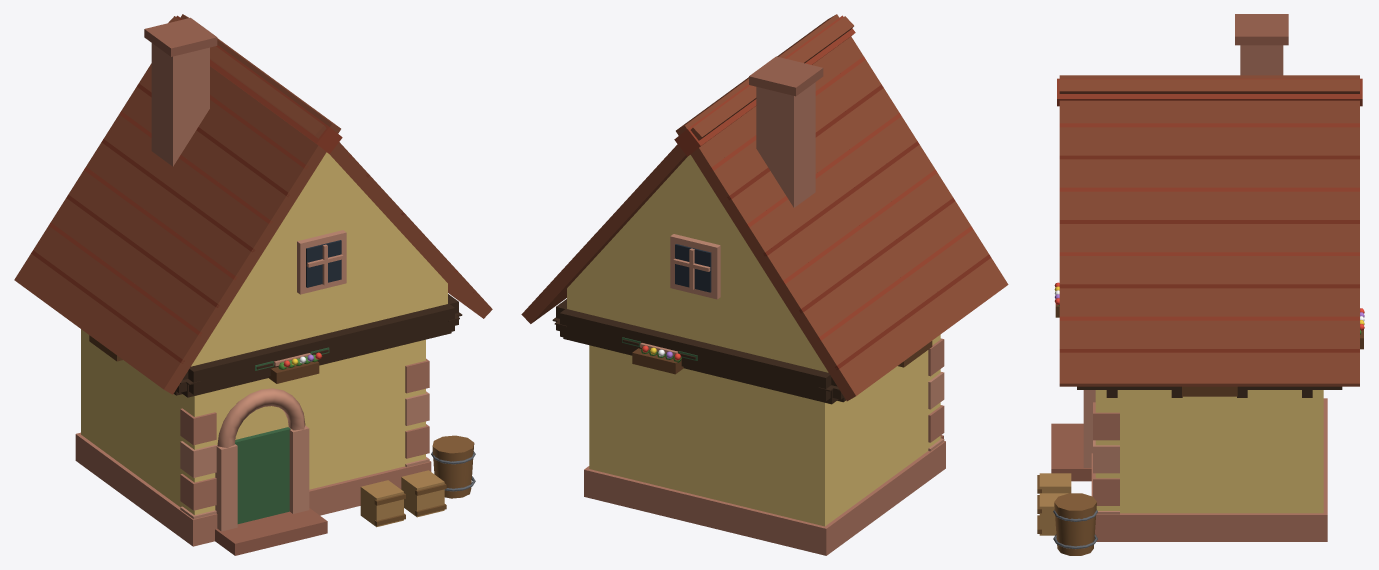
Rendered from wohnhaus_0.glb.
3 views of the same model, side by side, from view 1: azimuth 30°, elevation 25°; view 2: azimuth 150°, elevation 25°; view 3: azimuth 270°, elevation 25° (orthographic).
Bounding box in the file's own units: 2.84 × 3.58 × 2.44.
